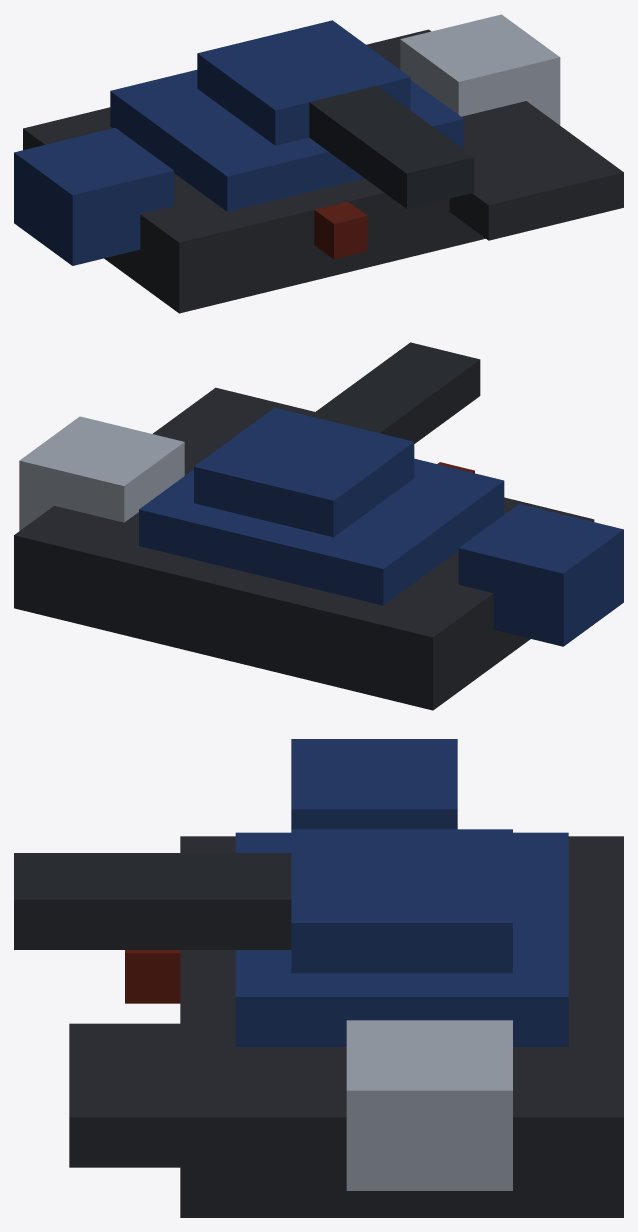
The model's file is mech_tank_defender_destroyed.glb.
3 views of the same model, one above another, from view 1: azimuth 30°, elevation 25°; view 2: azimuth 150°, elevation 25°; view 3: azimuth 270°, elevation 25° (orthographic). The views are drawn at different scales.
Visible parts, largest first — view 1: Wreck mesh, Turret mesh, Gun mesh, Ember mesh; view 2: Wreck mesh, Turret mesh, Gun mesh; view 3: Wreck mesh, Turret mesh, Gun mesh, Ember mesh.
Part boxes in pixels (x1,y1,x2,y2): Wreck mesh: [14, 14, 623, 313]; Turret mesh: [197, 20, 410, 145]; Gun mesh: [309, 85, 474, 208]; Ember mesh: [314, 201, 367, 259]; Wreck mesh: [14, 387, 623, 710]; Turret mesh: [194, 407, 414, 537]; Gun mesh: [310, 342, 480, 443]; Wreck mesh: [69, 739, 623, 1217]; Turret mesh: [291, 829, 512, 973]; Gun mesh: [14, 853, 291, 949]; Ember mesh: [125, 950, 180, 1003].
Size of the model in its own units: 15 by 4 by 11.
1 material, 1 textured.
